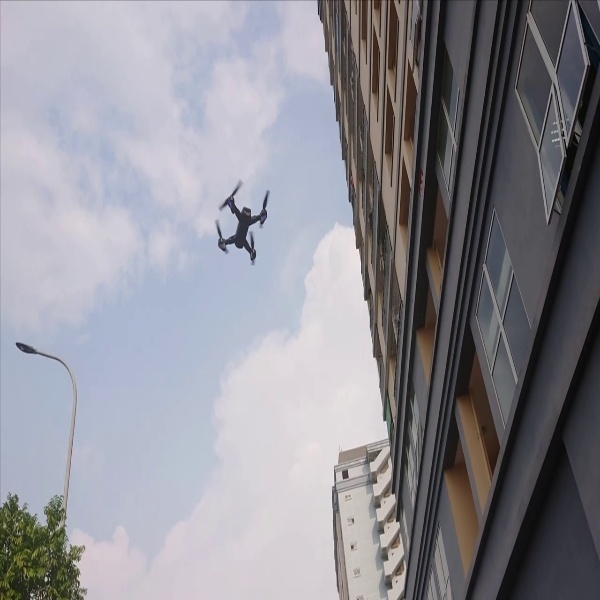drone: (207, 178, 279, 268)
